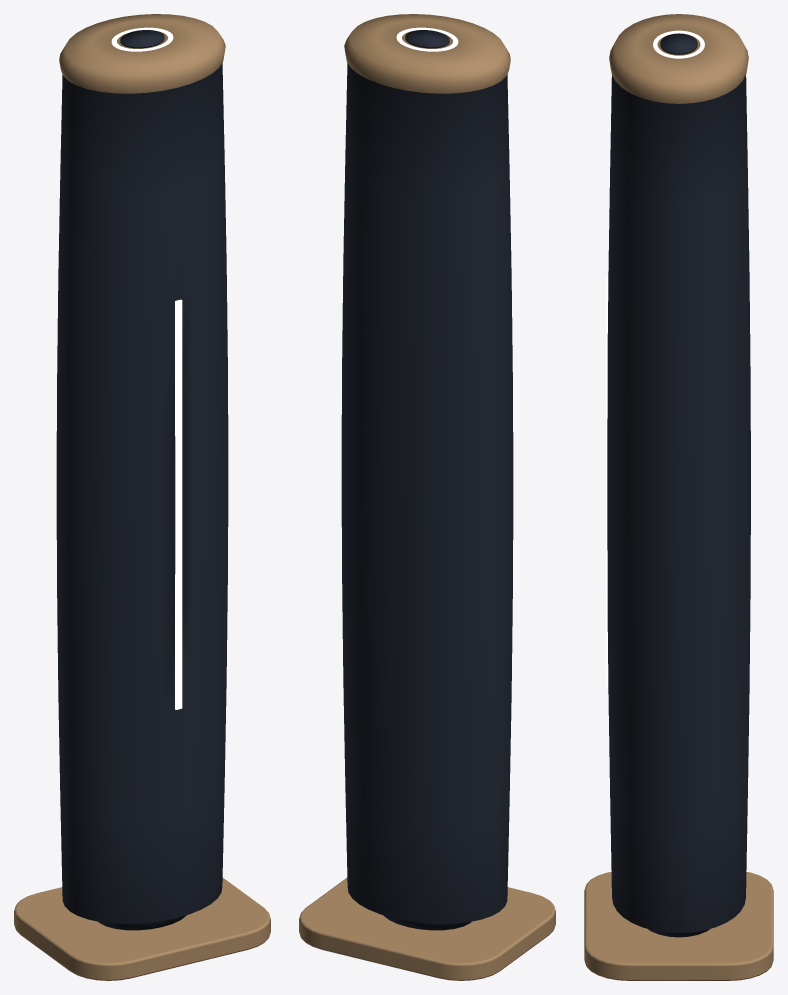
The model's file is ix_speaker.gltf.
3 views of the same model, side by side, from view 1: azimuth 30°, elevation 25°; view 2: azimuth 150°, elevation 25°; view 3: azimuth 270°, elevation 25° (orthographic).
Visible parts, largest first — view 1: IX_Speaker_Body, IX_Speaker_Plinth, IX_Speaker_Cap, IX_Speaker_Line, IX_Speaker_Button_Disc; view 2: IX_Speaker_Body, IX_Speaker_Plinth, IX_Speaker_Cap, IX_Speaker_Button_Disc; view 3: IX_Speaker_Body, IX_Speaker_Plinth, IX_Speaker_Cap, IX_Speaker_Line, IX_Speaker_Button_Disc, IX_Speaker_Ring.
Boxes of the visible parts, x1=… form: IX_Speaker_Body: x1=56, y1=63, x2=228, y2=923; IX_Speaker_Plinth: x1=14, y1=878, x2=270, y2=980; IX_Speaker_Cap: x1=59, y1=14, x2=225, y2=93; IX_Speaker_Line: x1=175, y1=299, x2=182, y2=709; IX_Speaker_Button_Disc: x1=120, y1=30, x2=164, y2=48; IX_Speaker_Body: x1=341, y1=63, x2=513, y2=923; IX_Speaker_Plinth: x1=299, y1=878, x2=555, y2=980; IX_Speaker_Cap: x1=344, y1=14, x2=510, y2=93; IX_Speaker_Button_Disc: x1=405, y1=30, x2=449, y2=48; IX_Speaker_Body: x1=607, y1=75, x2=750, y2=932; IX_Speaker_Plinth: x1=584, y1=872, x2=773, y2=980; IX_Speaker_Cap: x1=609, y1=14, x2=748, y2=103; IX_Speaker_Line: x1=606, y1=277, x2=607, y2=688; IX_Speaker_Button_Disc: x1=660, y1=33, x2=697, y2=54; IX_Speaker_Ring: x1=653, y1=30, x2=704, y2=58.
Size of the model in its own units: 0.25 by 1.09 by 0.21.
